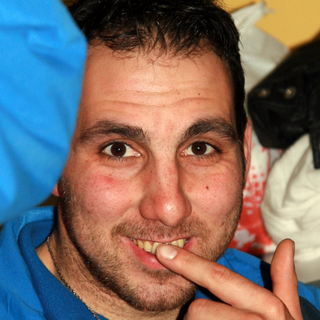eye: (94, 135, 147, 166), (178, 134, 227, 163)
